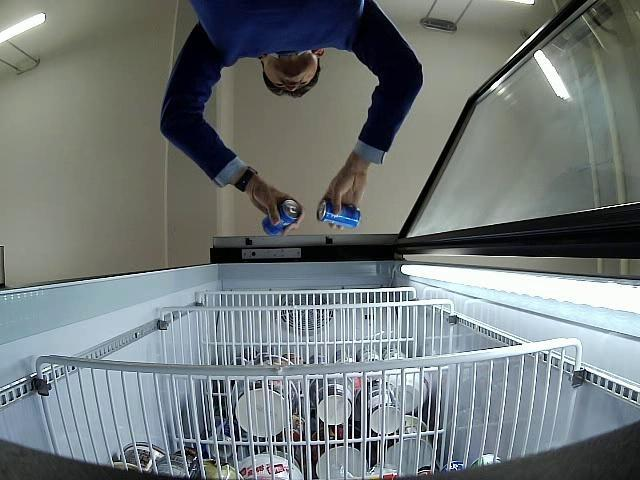15_letsbe: (262, 200, 302, 236), (318, 198, 360, 228)
